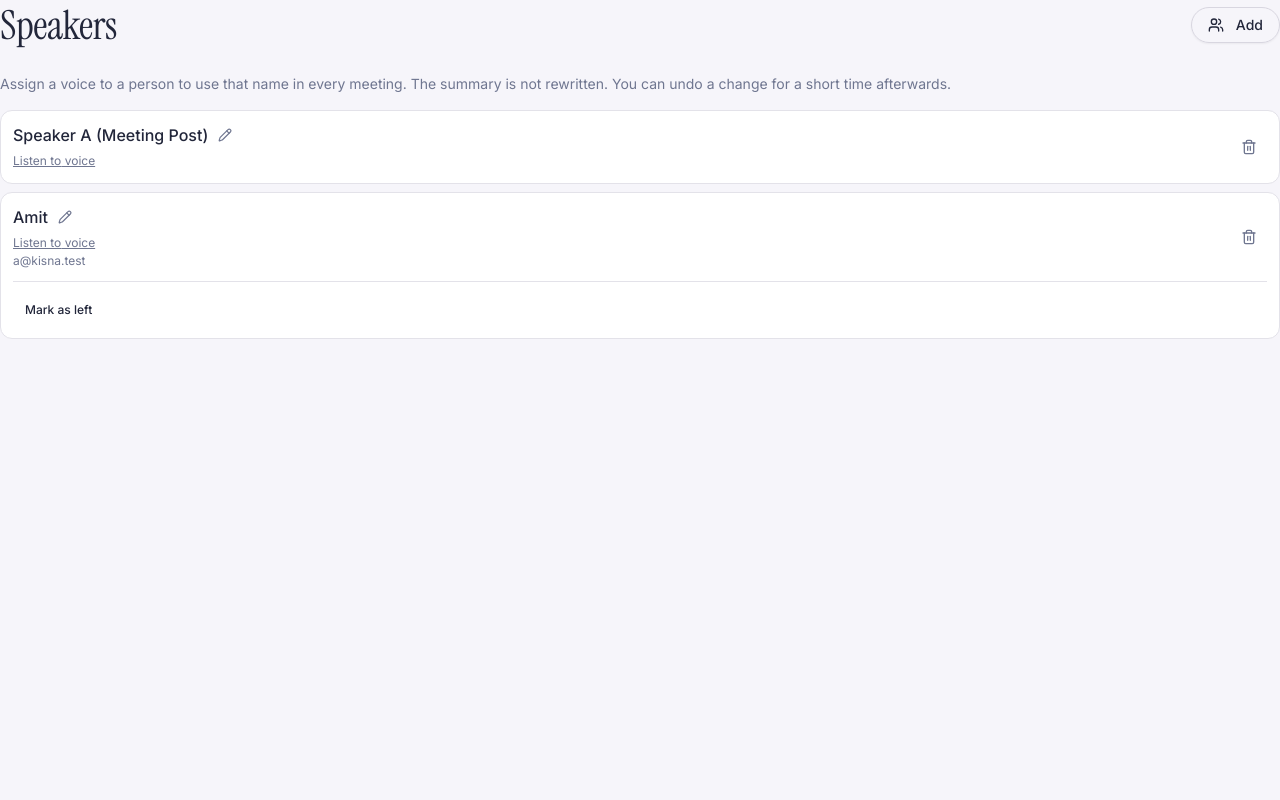
Test: Speakers assign controls › offers to merge when the new name already exists
The width and height of the screenshot is (1280, 800).
Expected: the text "Speaker A (Meeting Post)" is shown, [13,123,208,147]
Step 1. Click the button named "Assign Speaker A (Meeting Post) to a person" → (225, 135), box [214,124,236,146]
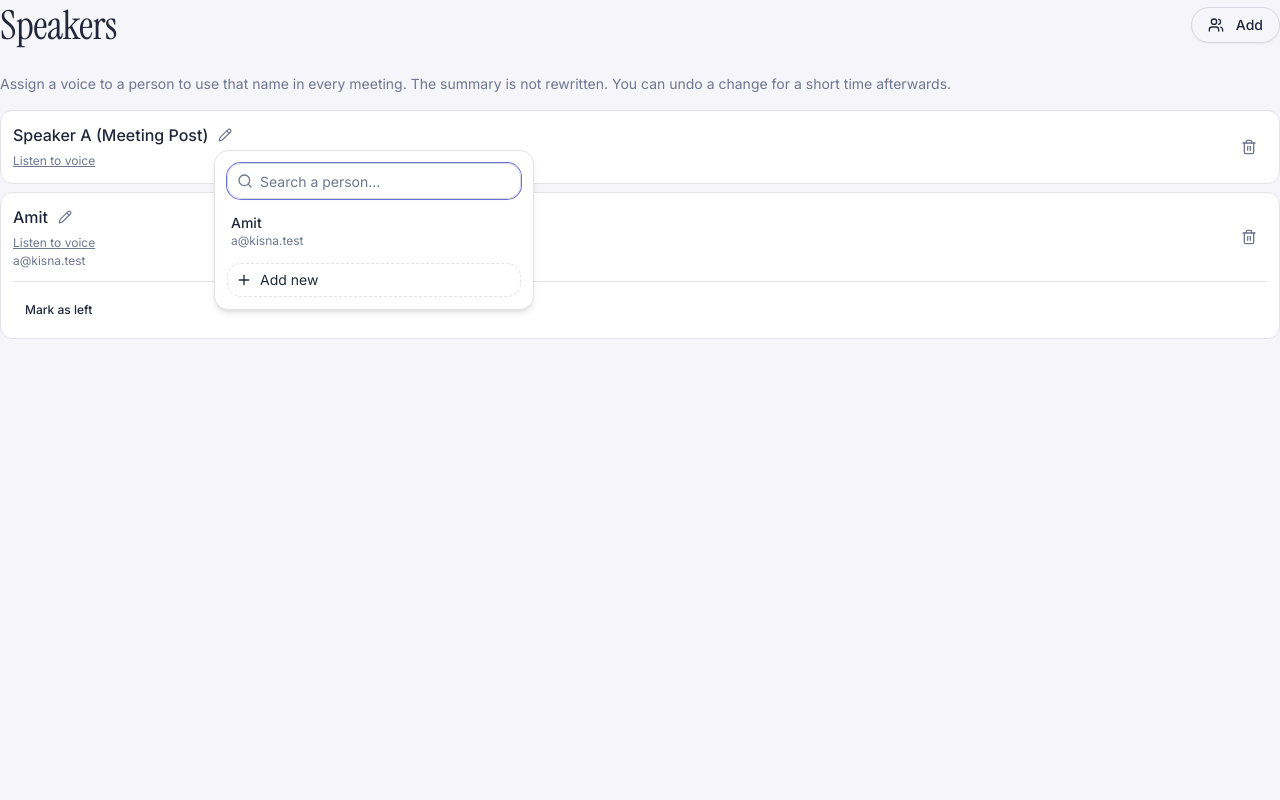
Step 2. Click the button "Add new" → (289, 280), box [227,263,521,297]
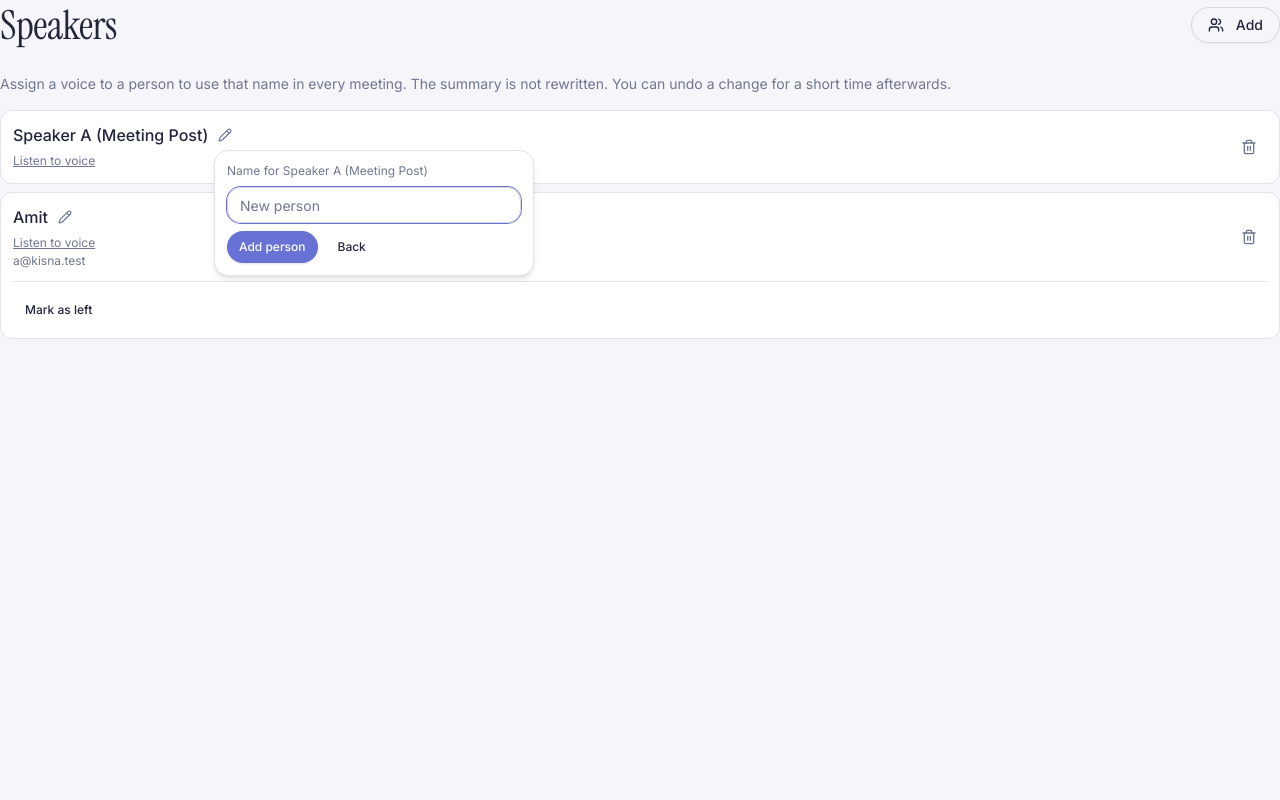
Step 3. Type "  Amit " into the field named "New name for Speaker A (Meeting Post)" → (374, 205), box [227,187,521,223]
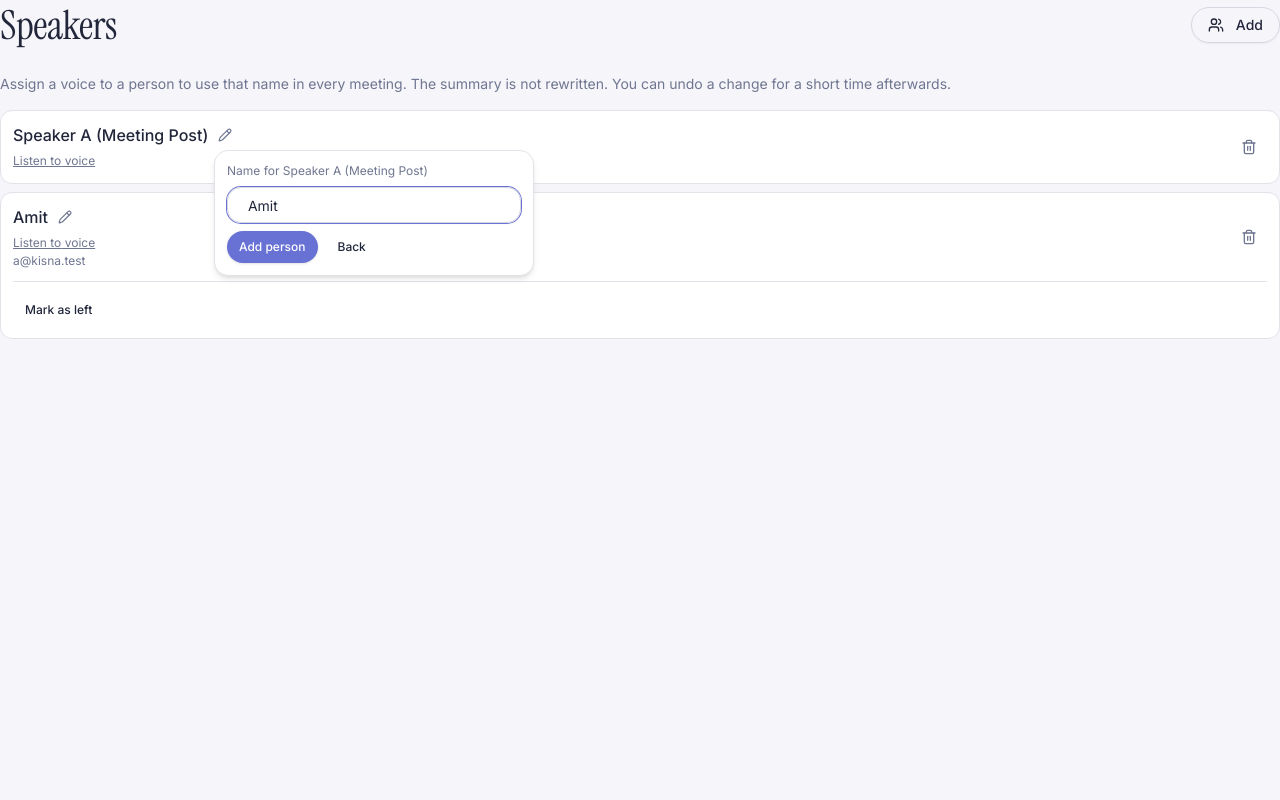
Step 4. Click the button "Add person" → (272, 247), box [227,231,318,263]
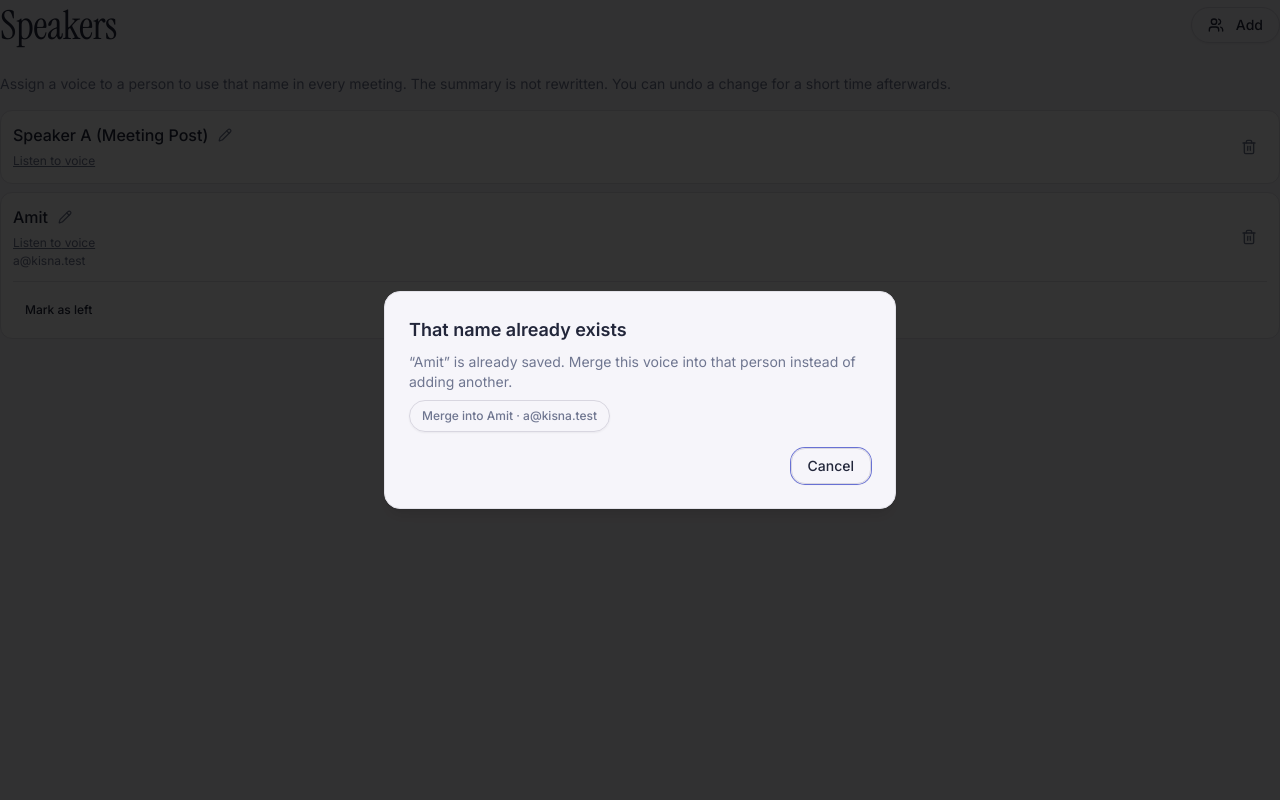
Expected: the text "already saved" is shown, [444,353,561,370]
Expected: the button "Merge into Amit · a@kisna.test" is shown, [409,400,610,432]
